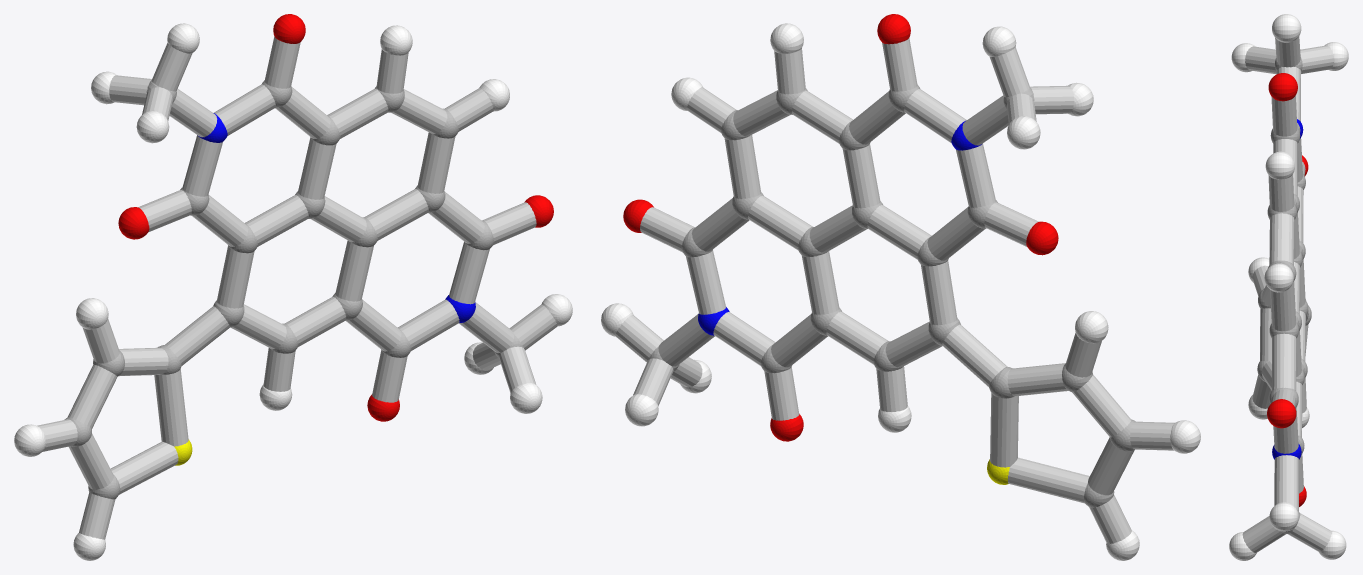
The model's file is Dimethyl_Naphthalene_Dicarboximide_Phi_15_Theta_0_Thiophene.glb.
The picture shows the model from 3 angles, left to right: view 1: azimuth 30°, elevation 25°; view 2: azimuth 150°, elevation 25°; view 3: azimuth 270°, elevation 25°; orthographic projection. The views are drawn at different scales.
Parts seen in each view (by area): view 1: grp14119, grp7241, grp1, grp12309, grp11585; view 2: grp14119, grp7241, grp1, grp12309, grp11585; view 3: grp14119, grp7241, grp1, grp12309, grp11585.
Boxes of the visible parts, x1,y1,x2,y2 form: grp14119: [37, 36, 557, 539]; grp7241: [14, 23, 572, 560]; grp1: [64, 80, 523, 499]; grp12309: [118, 14, 553, 421]; grp11585: [198, 113, 475, 322]; grp14119: [615, 38, 1174, 543]; grp7241: [601, 23, 1200, 560]; grp1: [648, 84, 1135, 507]; grp12309: [623, 14, 1058, 441]; grp11585: [698, 120, 981, 335]; grp14119: [1242, 36, 1334, 552]; grp7241: [1229, 14, 1348, 560]; grp1: [1257, 57, 1311, 533]; grp12309: [1267, 73, 1308, 506]; grp11585: [1272, 119, 1303, 459].
Bounding box in the file's own units: 12 × 10.11 × 2.44.
